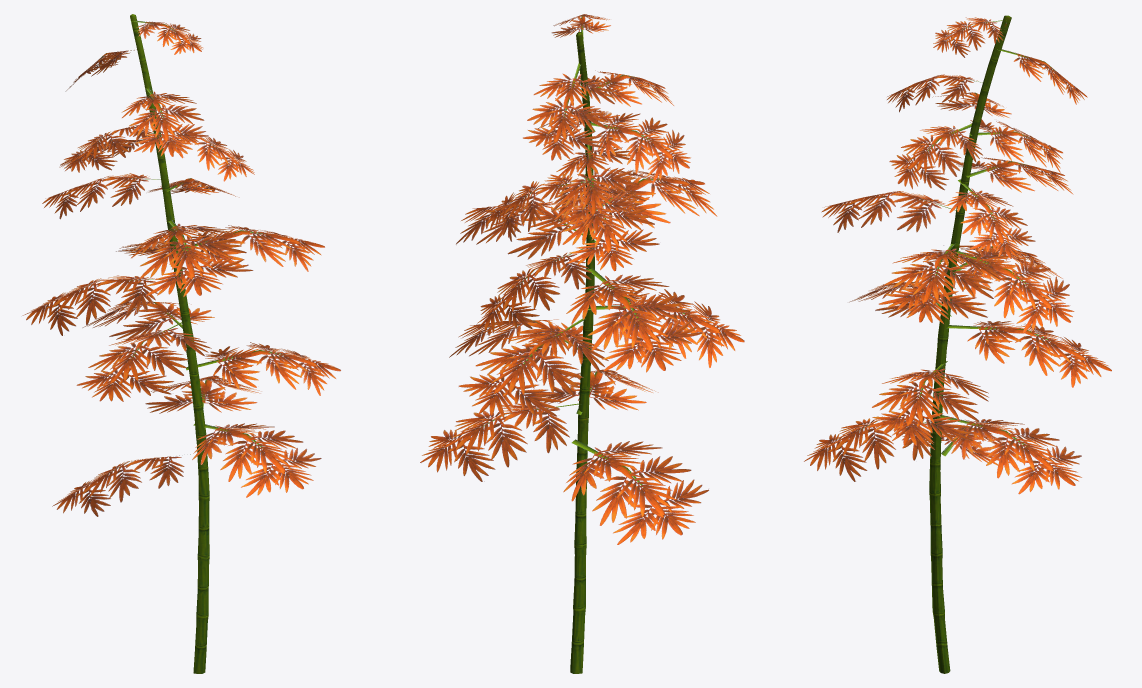
File: BambooD.fbx
The picture shows the model from 3 angles, left to right: view 1: azimuth 30°, elevation 25°; view 2: azimuth 150°, elevation 25°; view 3: azimuth 270°, elevation 25°; orthographic projection. The views are drawn at different scales.
Parts seen in each view (by area): view 1: pPlaneShape17, pPlane3; view 2: pPlaneShape17, pPlane3; view 3: pPlaneShape17, pPlane3.
Boxes of the visible parts, left/top/right/bottom form: pPlaneShape17: left=22, top=20, right=340, bottom=516; pPlane3: left=130, top=14, right=209, bottom=673; pPlaneShape17: left=420, top=14, right=744, bottom=544; pPlane3: left=570, top=32, right=594, bottom=673; pPlaneShape17: left=804, top=17, right=1111, bottom=494; pPlane3: left=929, top=15, right=1011, bottom=673.
Bounding box in the file's own units: 2.17 × 4.24 × 2.08.
Materials: 2 (2 with a texture image).
